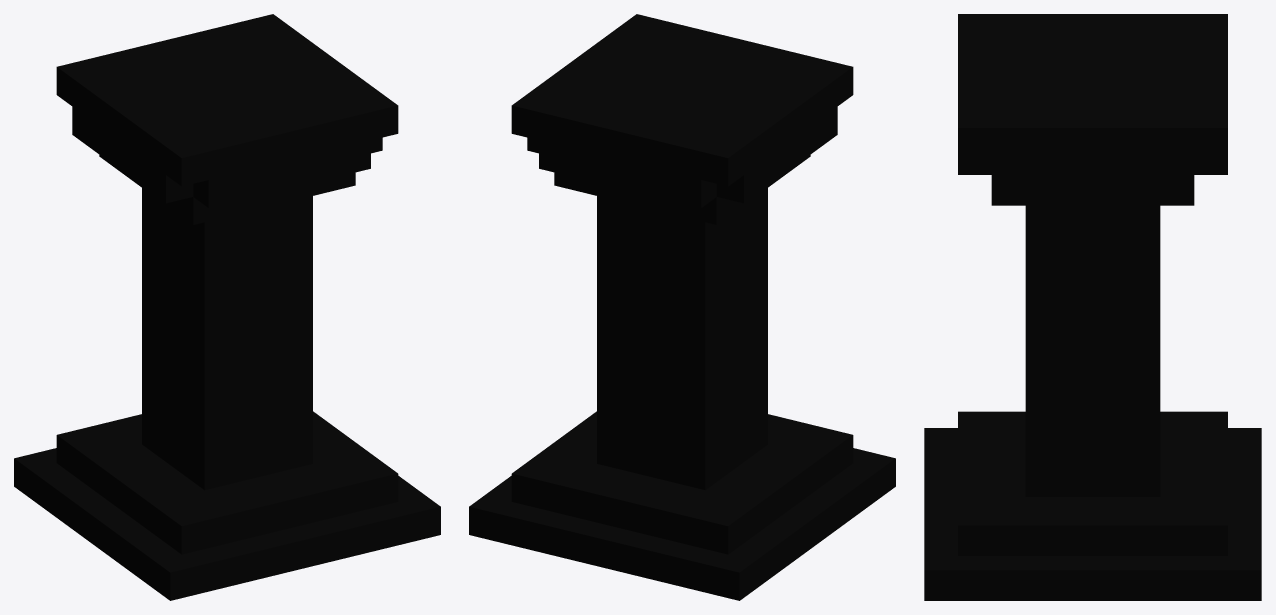
File: church-6-cata_pilalrs.glb
3 views of the same model, side by side, from view 1: azimuth 30°, elevation 25°; view 2: azimuth 150°, elevation 25°; view 3: azimuth 270°, elevation 25° (orthographic). The views are drawn at different scales.
Parts seen in each view (by area): view 1: cata_pilalrs; view 2: cata_pilalrs; view 3: cata_pilalrs.
Boxes of the visible parts, x1=… form: cata_pilalrs: x1=14, y1=14, x2=440, y2=600; cata_pilalrs: x1=469, y1=14, x2=895, y2=600; cata_pilalrs: x1=924, y1=14, x2=1261, y2=600.
Bounding box in the file's own units: 1 × 1.5 × 1.
Materials: 1 (1 with a texture image).
